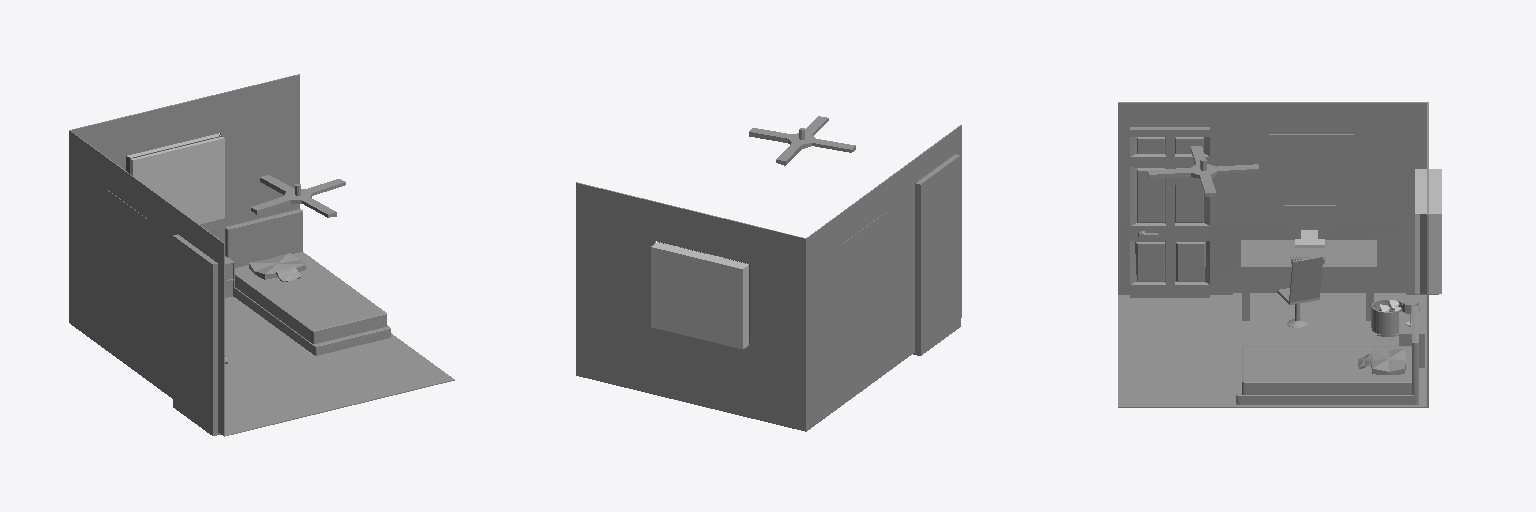
The model's file is Room.obj.
The picture shows the model from 3 angles: view 1: azimuth 30°, elevation 25°; view 2: azimuth 150°, elevation 25°; view 3: azimuth 270°, elevation 25°; orthographic projection.
Visible parts, largest first — view 1: Cube, Cube.009_Cube.010, Cube.010_Cube.011, CTRL_Hole.001, Cube.004, house, Cylinder.003_Cylinder.004, Cube.005_Cube.006; view 2: Cube, CTRL_Hole.001, Cube.009_Cube.010, house, Cylinder.003_Cylinder.004; view 3: Cube, Cube.009_Cube.010, Cube.010_Cube.011, Plane.001, Cube.002, house, Cube.004, CTRL_Hole.001, Cube.007_Cube.008, Cylinder.003_Cylinder.004, winxp-royale, Cube.005_Cube.006 (+5 smaller).
Part boxes in pixels (left/top/right/bottom): Cube: left=69, top=74, right=454, bottom=436; Cube.009_Cube.010: left=173, top=234, right=220, bottom=435; Cube.010_Cube.011: left=235, top=252, right=386, bottom=343; CTRL_Hole.001: left=127, top=134, right=224, bottom=224; Cube.004: left=225, top=209, right=390, bottom=355; house: left=106, top=189, right=148, bottom=262; Cylinder.003_Cylinder.004: left=251, top=175, right=345, bottom=217; Cube.005_Cube.006: left=249, top=253, right=305, bottom=279; Cube: left=576, top=125, right=961, bottom=431; CTRL_Hole.001: left=651, top=242, right=748, bottom=348; Cube.009_Cube.010: left=913, top=154, right=960, bottom=355; house: left=844, top=212, right=886, bottom=285; Cylinder.003_Cylinder.004: left=749, top=116, right=855, bottom=165; Cube: left=1118, top=102, right=1428, bottom=407; Cube.009_Cube.010: left=1130, top=127, right=1209, bottom=297; Cube.010_Cube.011: left=1242, top=346, right=1411, bottom=394; Plane.001: left=1233, top=293, right=1405, bottom=334; Cube.002: left=1241, top=240, right=1376, bottom=273; house: left=1269, top=134, right=1353, bottom=177; Cube.004: left=1236, top=306, right=1418, bottom=404; CTRL_Hole.001: left=1415, top=169, right=1441, bottom=293; Cube.007_Cube.008: left=1277, top=256, right=1322, bottom=327; Cylinder.003_Cylinder.004: left=1148, top=146, right=1259, bottom=196; winxp-royale: left=1285, top=206, right=1334, bottom=228; Cube.005_Cube.006: left=1371, top=349, right=1405, bottom=374.
Size of the model in its own units: 3.07 by 2.46 by 3.65.